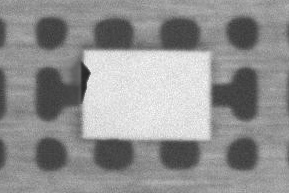DIE_BROKEN: (78, 62, 90, 103)
